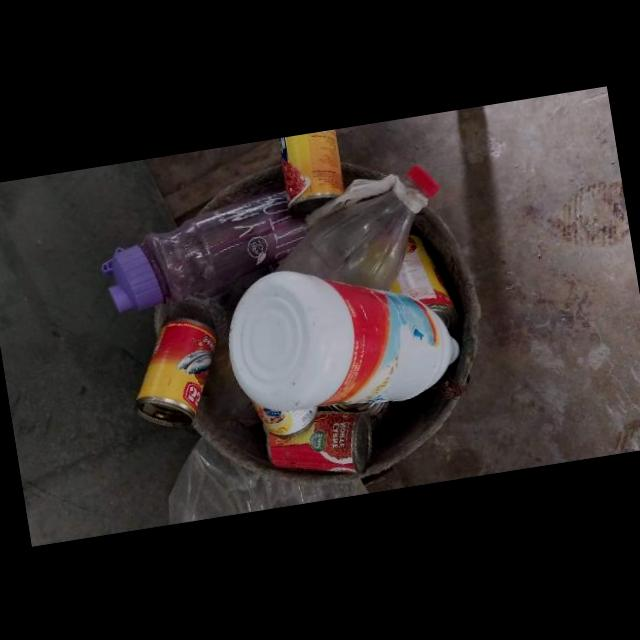chai_nhua: (228, 270, 459, 410), (101, 189, 309, 313), (274, 163, 440, 291)
nhom: (135, 317, 217, 426), (388, 231, 459, 333), (267, 411, 371, 473), (279, 129, 344, 217), (250, 398, 319, 437)
